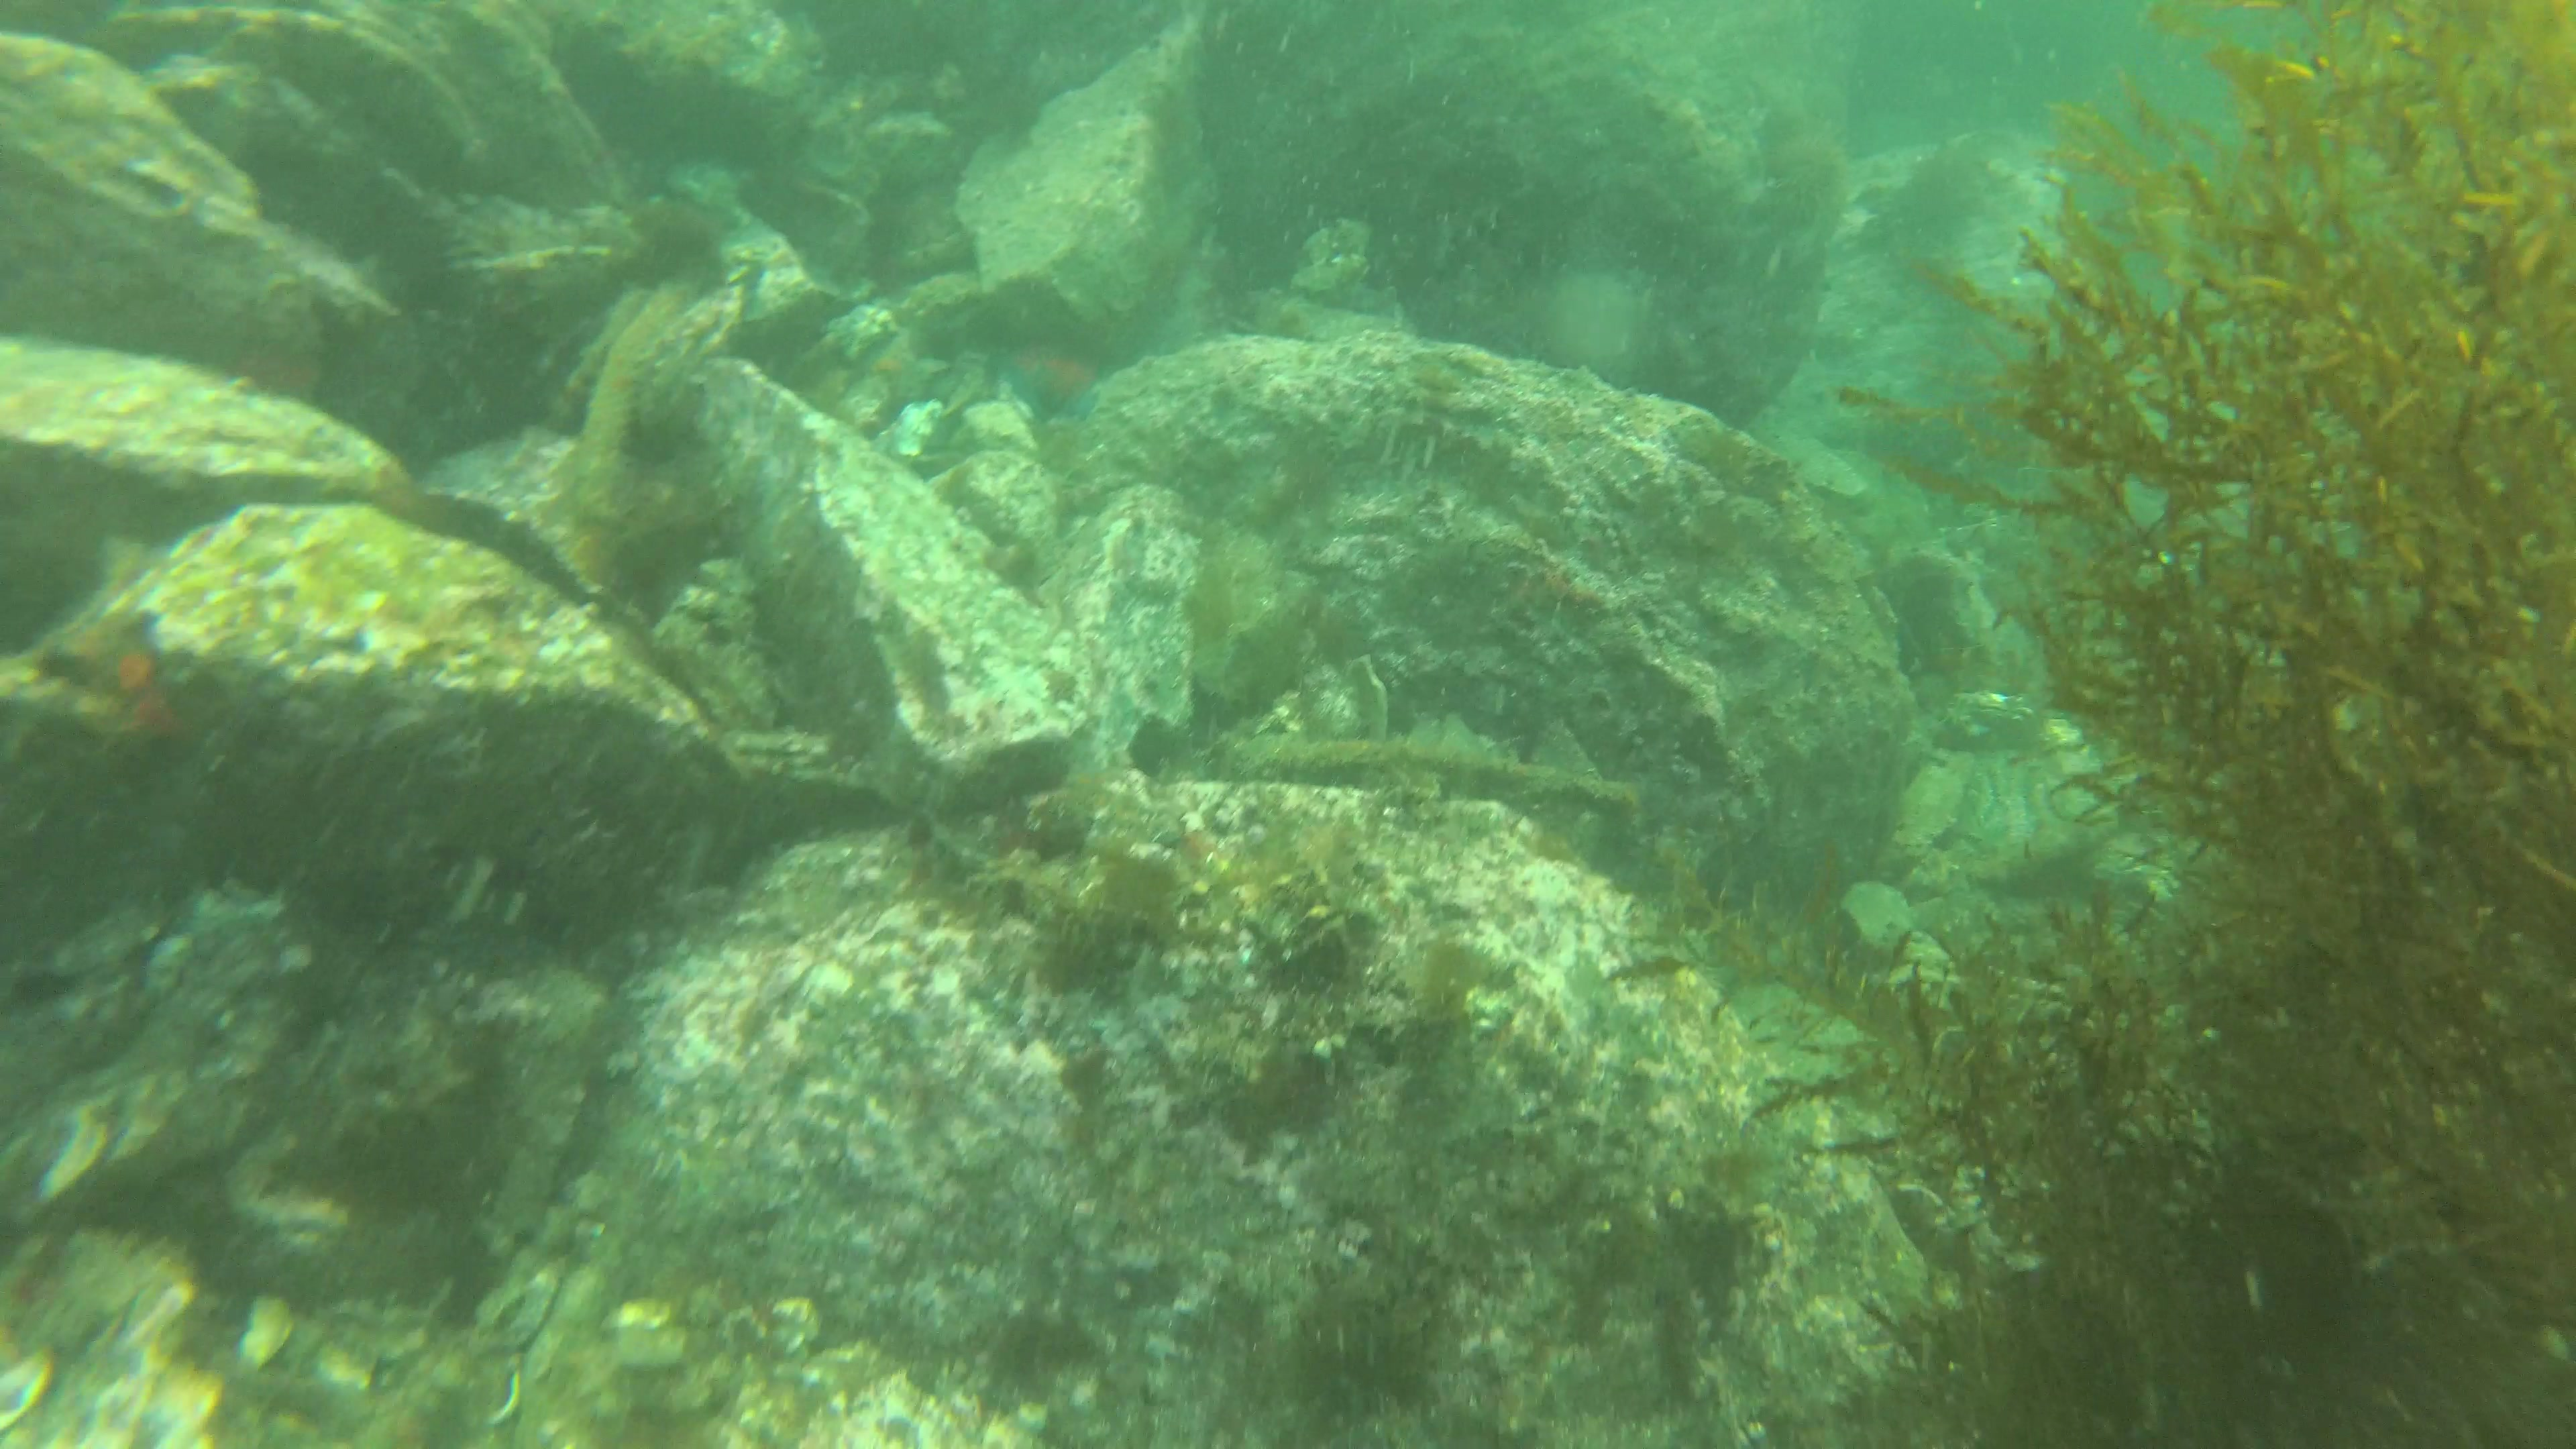starfish: (1000, 317, 1122, 435)
